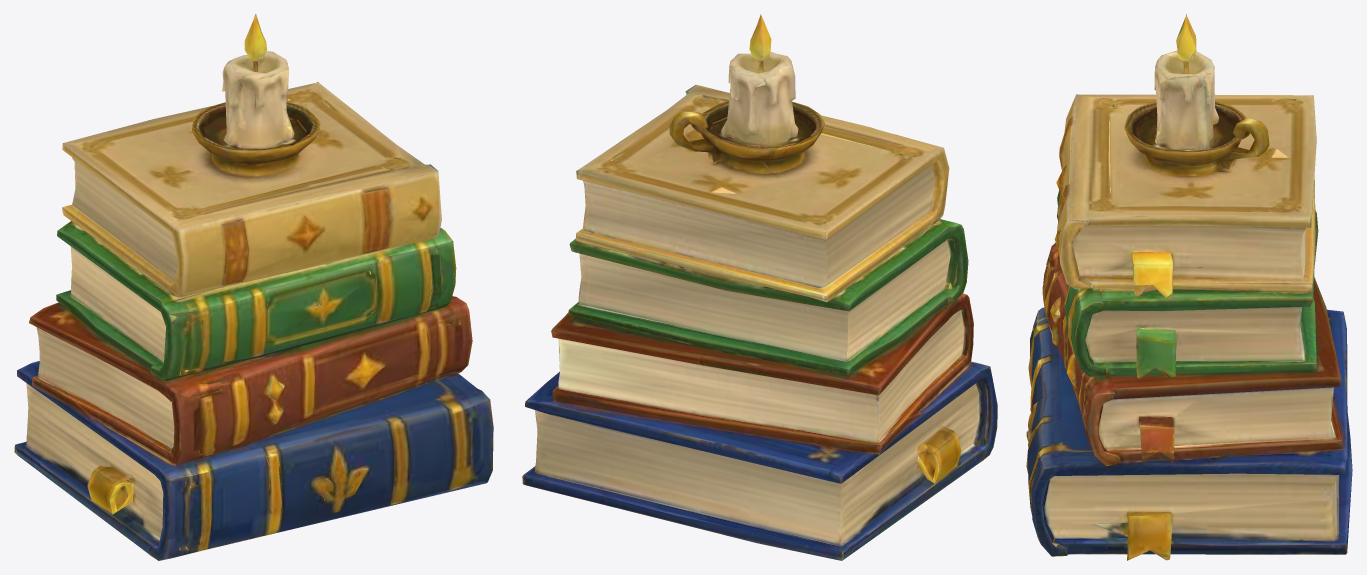
Rendered from candle-tome.glb.
The picture shows the model from 3 angles, left to right: view 1: azimuth 30°, elevation 25°; view 2: azimuth 150°, elevation 25°; view 3: azimuth 270°, elevation 25°; orthographic projection. The views are drawn at different scales.
Visible parts, largest first — view 1: Mesh1.0; view 2: Mesh1.0; view 3: Mesh1.0.
Boxes of the visible parts, x1=… form: Mesh1.0: x1=14, y1=14, x2=493, y2=560; Mesh1.0: x1=522, y1=14, x2=997, y2=560; Mesh1.0: x1=1026, y1=14, x2=1352, y2=560.
Size of the model in its own units: 1.54 by 1.9 by 1.21.
1 material, 1 textured.
